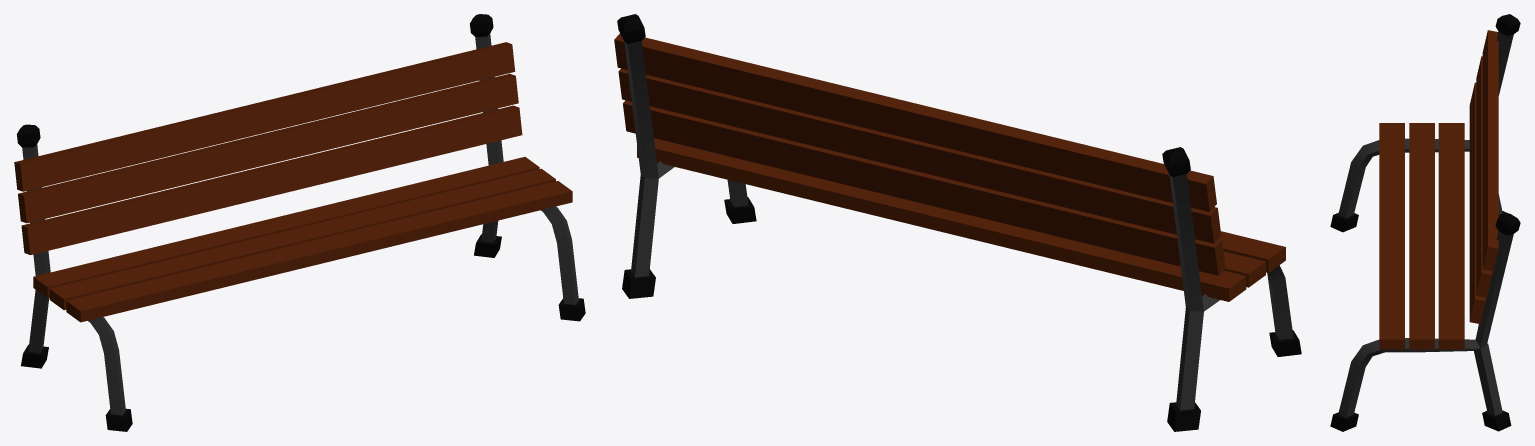
Rendered from tx_poland_bench.gltf.
3 renders of one model, left to right at view 1: azimuth 30°, elevation 25°; view 2: azimuth 150°, elevation 25°; view 3: azimuth 270°, elevation 25°, orthographic. The views are drawn at different scales.
Visible parts, largest first — view 1: Cube.070, Cube.068, Cube.071, Cube.067, Cube.066, Cube.065, Cube.064; view 2: Cube.071, Cube.068, Cube.070, Cube.064, Cube.065, Cube.067, Cube.066; view 3: Cube.064, Cube.065, Cube.066, Cube.067, Cube.071, Cube.068, Cube.070.
Part boxes in pixels (bbox=[...]): Cube.070: bbox=[18, 73, 518, 223]; Cube.068: bbox=[21, 105, 522, 254]; Cube.071: bbox=[14, 42, 515, 191]; Cube.067: bbox=[66, 181, 572, 322]; Cube.066: bbox=[49, 168, 555, 310]; Cube.065: bbox=[33, 157, 539, 298]; Cube.064: bbox=[16, 14, 585, 431]; Cube.071: bbox=[614, 33, 1216, 211]; Cube.068: bbox=[623, 100, 1225, 275]; Cube.070: bbox=[618, 68, 1221, 243]; Cube.064: bbox=[617, 14, 1301, 431]; Cube.065: bbox=[637, 138, 1246, 301]; Cube.067: bbox=[1219, 231, 1285, 272]; Cube.066: bbox=[1223, 251, 1265, 287]; Cube.064: bbox=[1330, 14, 1520, 431]; Cube.065: bbox=[1438, 123, 1464, 349]; Cube.066: bbox=[1409, 123, 1434, 349]; Cube.067: bbox=[1379, 123, 1404, 349]; Cube.071: bbox=[1482, 30, 1498, 271]; Cube.068: bbox=[1469, 82, 1485, 323]; Cube.070: bbox=[1476, 56, 1492, 297].
Size of the model in its own units: 1.3 by 0.5928 by 0.4837.
Materials: 2 (2 with a texture image).
